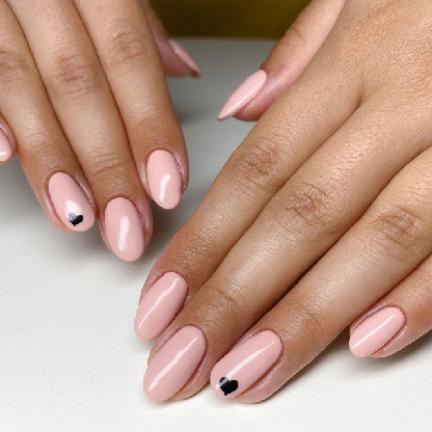Nail: (210, 331, 283, 398), (143, 326, 206, 400), (135, 273, 188, 339), (349, 307, 405, 357), (48, 172, 95, 231), (218, 69, 267, 120), (105, 197, 144, 261), (146, 149, 181, 208), (169, 39, 201, 76), (0, 129, 13, 162)
